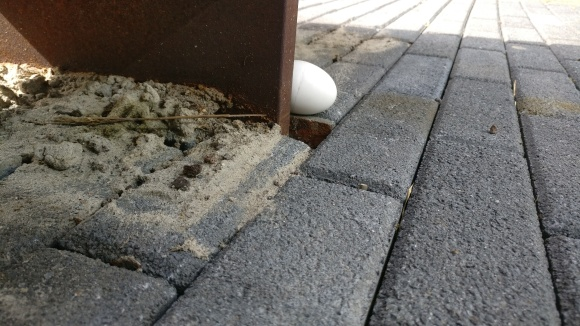egg: (289, 58, 338, 116)
